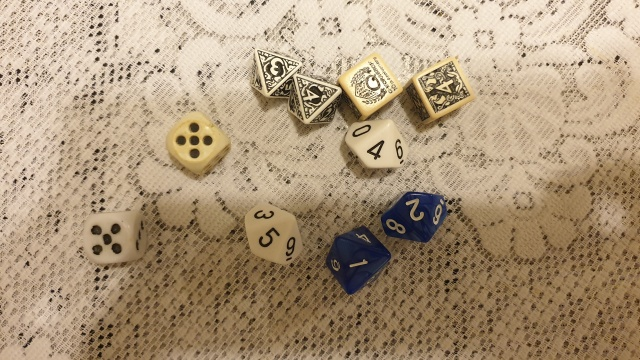d10-1: (321, 221, 392, 295)
d10-2: (377, 187, 451, 247)
d10-4: (340, 114, 408, 174)
d10-5: (238, 197, 306, 270)
d6-5: (163, 108, 230, 178), (80, 208, 151, 265)
d6p-4: (403, 56, 473, 124)
d6p-6: (336, 53, 401, 119)
d8p-3: (248, 44, 301, 100)
d8p-4: (284, 71, 343, 129)
